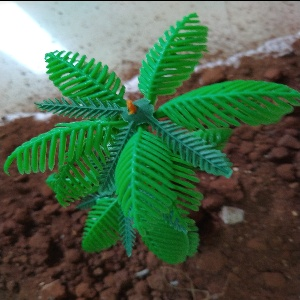plant: (29, 31, 231, 260)
